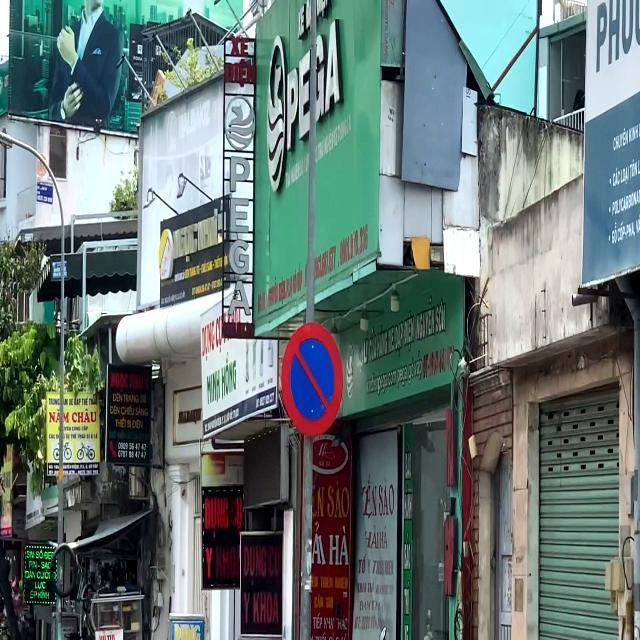131a-cam-do-xe: (280, 323, 344, 437)
